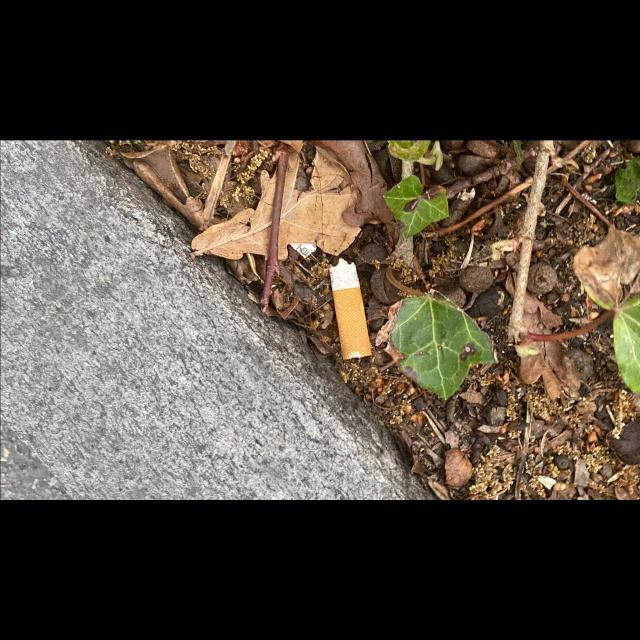cigarette: (328, 258, 373, 360)
